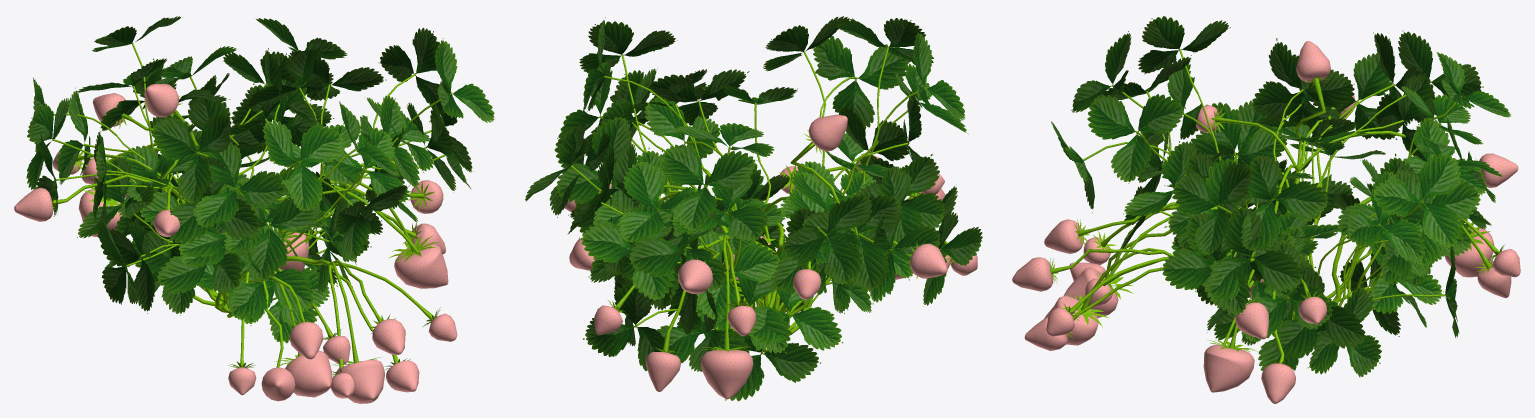
The model's file is strawberry_halfripe.obj.
3 renders of one model, left to right at view 1: azimuth 30°, elevation 25°; view 2: azimuth 150°, elevation 25°; view 3: azimuth 270°, elevation 25°, orthographic. The views are drawn at different scales.
Parts seen in each view (by area): view 1: Strawberry_001; view 2: Strawberry_001; view 3: Strawberry_001.
Boxes of the visible parts, x1,y1,x2,y2 form: Strawberry_001: (14,16,495,403); Strawberry_001: (525,16,982,401); Strawberry_001: (1012,16,1520,403).
Size of the model in its own units: 0.4843 by 0.3214 by 0.5047.
Materials: 5 (5 with a texture image).
